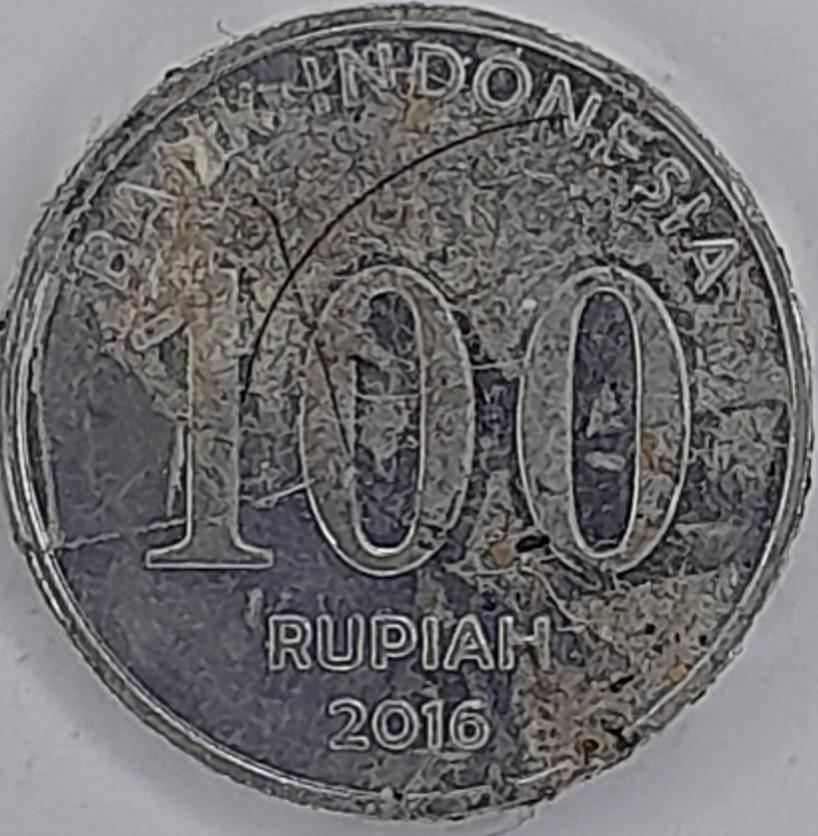coin_100_e2016: (0, 0, 817, 832)
